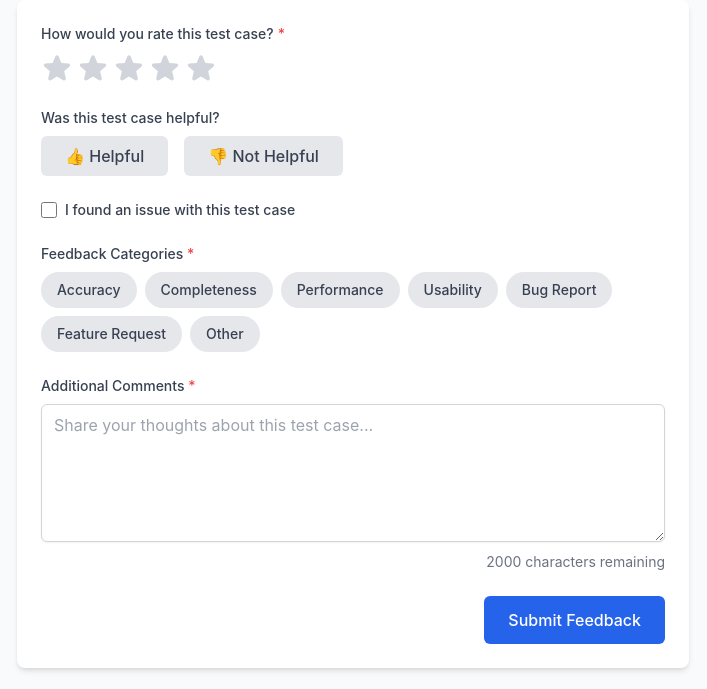
it: TestCaseFeedback Component › Form Interaction › should update comment textarea
In the text box with placeholder "Share your thoughts about this test case...": (353, 473) x1=41 y1=404 x2=665 y2=542, type "Great test!"
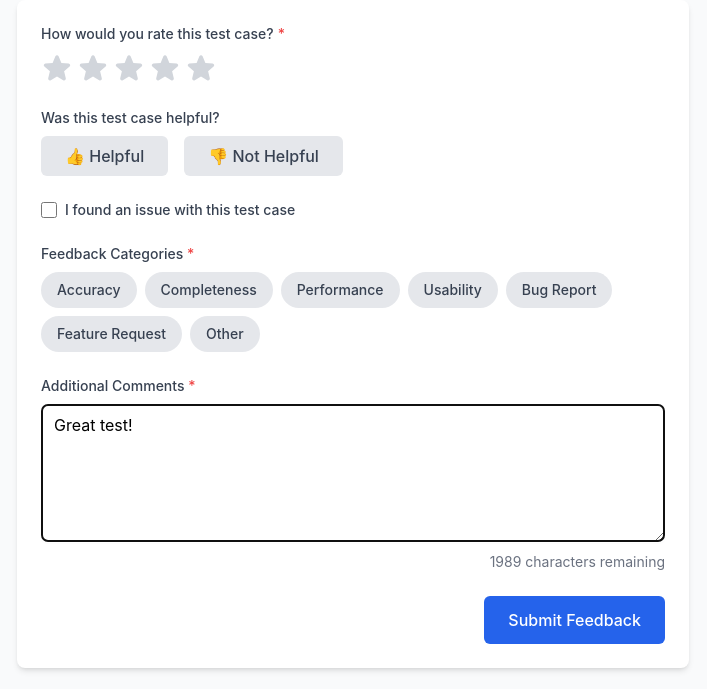
Expected: the text "1989 characters remaining" is shown, x1=490 y1=553 x2=665 y2=570
